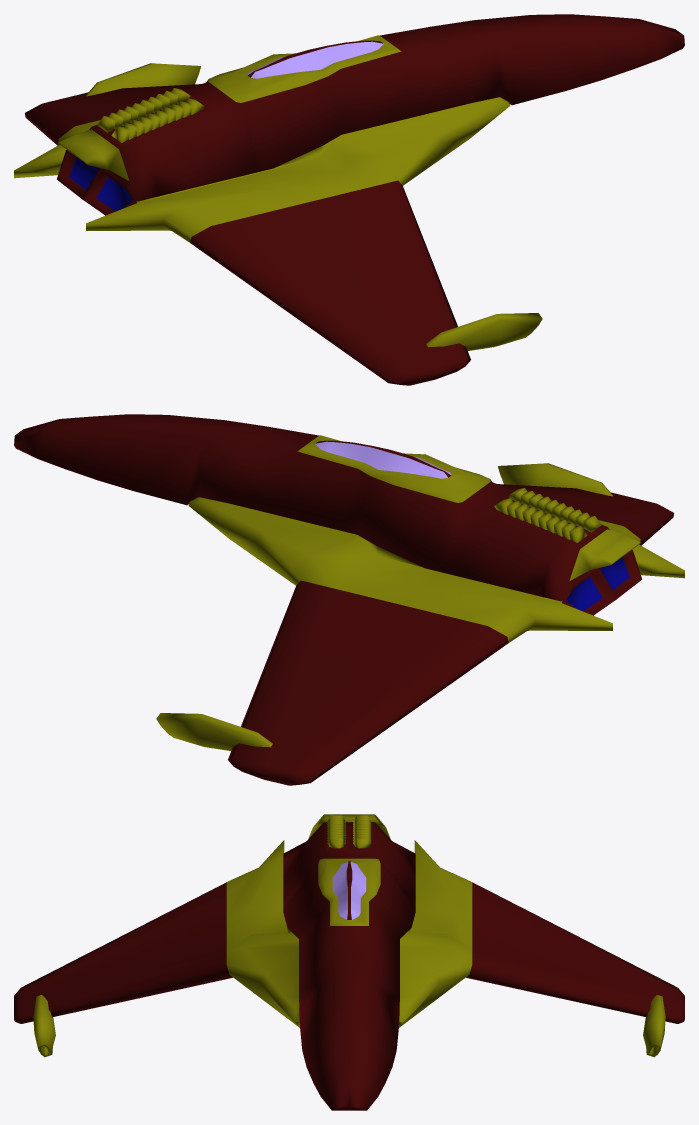
Rendered from spaceship.obj.
The picture shows the model from 3 angles, top to bottom: view 1: azimuth 30°, elevation 25°; view 2: azimuth 150°, elevation 25°; view 3: azimuth 270°, elevation 25°; orthographic projection. The views are drawn at different scales.
Parts seen in each view (by area): view 1: Body, WingConnections, Weapons, Top, Exaust, Cockpit, Engine1, EngineGlow; view 2: Body, WingConnections, Weapons, Top, Exaust, Cockpit, Engine1, EngineGlow; view 3: Body, WingConnections, Top, Weapons, Cockpit, Exaust, Engine1.
Part boxes in pixels (x1=…): Body: x1=25, y1=14, x2=684, y2=385; WingConnections: x1=14, y1=97, x2=511, y2=242; Weapons: x1=85, y1=63, x2=542, y2=350; Top: x1=208, y1=35, x2=401, y2=102; Exaust: x1=97, y1=88, x2=204, y2=142; Cockpit: x1=248, y1=41, x2=383, y2=78; Engine1: x1=58, y1=129, x2=129, y2=181; EngineGlow: x1=69, y1=157, x2=132, y2=211; Body: x1=14, y1=414, x2=673, y2=785; WingConnections: x1=187, y1=497, x2=684, y2=642; Weapons: x1=156, y1=463, x2=613, y2=750; Top: x1=297, y1=435, x2=490, y2=502; Exaust: x1=494, y1=488, x2=601, y2=542; Cockpit: x1=315, y1=441, x2=450, y2=478; Engine1: x1=569, y1=529, x2=640, y2=581; EngineGlow: x1=566, y1=557, x2=629, y2=611; Body: x1=14, y1=822, x2=684, y2=1110; WingConnections: x1=226, y1=840, x2=472, y2=1027; Top: x1=318, y1=858, x2=380, y2=925; Weapons: x1=33, y1=995, x2=665, y2=1057; Cockpit: x1=332, y1=862, x2=366, y2=919; Exaust: x1=327, y1=815, x2=371, y2=848; Engine1: x1=308, y1=814, x2=390, y2=839.
Size of the model in its own units: 1.38 by 0.3763 by 1.41.
